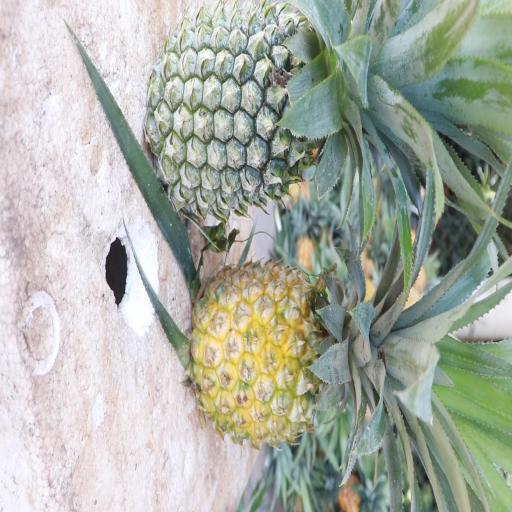Pineapple - v8 v1: (192, 245, 482, 494)
